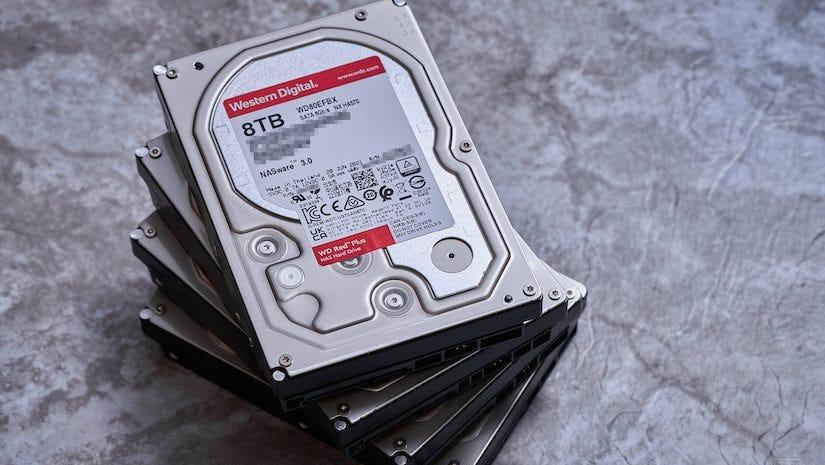internal HDD: (154, 0, 545, 400)
